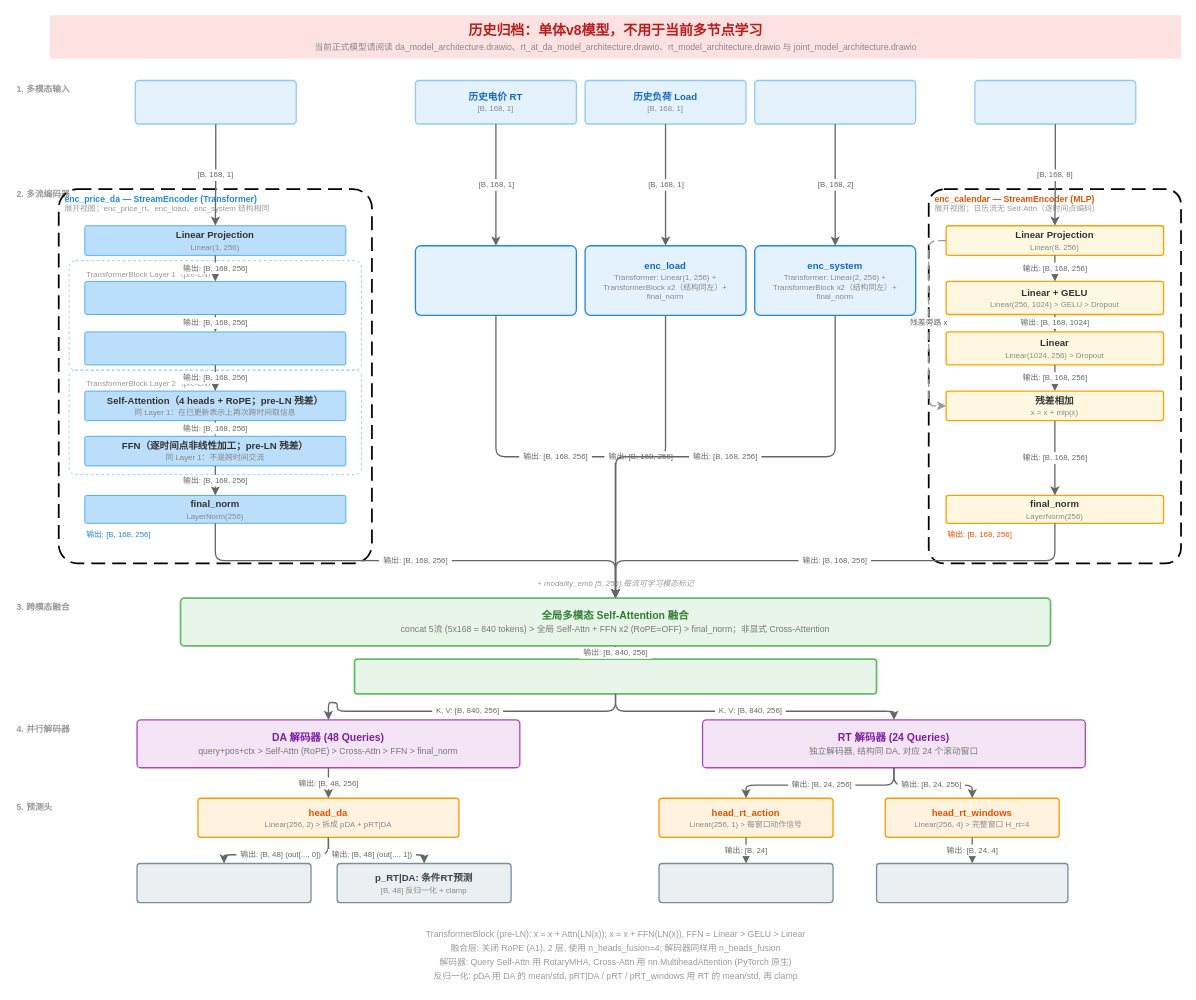
Image size: 1196x1000. Some labels were removed from this diagram. The centre of each missing label's shape, as x and y in pixels:
"enc_price_rt Transformer: Linear(1, 256) + TransformerBlock x2（结构同左）+ final_norm" goes at [495,280].
"FFN（逐时间点非线性加工；pre-LN 残差） 256 → 1024 → GELU → 256；x = x + FFN(LN(x))" goes at [215,348].
"p_DA: 日前电价预测 [B, 48] 反归一化 + clamp" goes at [223,882].
"p_RT: RT动作信号 [B, 24] 反归一化 + clamp" goes at [745,882].
"p_RT_windows: RT窗口 [B, 24, 4] 反归一化 + clamp" goes at [971,882].
"Self-Attention（4 heads + RoPE；pre-LN 残差） 跨时间取信息：x = x + RotaryMHA(LN(x))" goes at [215,298].
"Shared Memory h_i 融合后的共享表示, K/V 供 Decoder 查询" goes at [615,676].
"历史电价 DA [B, 168, 1]" goes at [215,101].
"日历 Calendar [B, 168, 8] 本地 hour/dow/month sin/cos + weekend/holiday" goes at [1055,101].
"系统变量 System [B, 168, 2] 风电+光伏实际出力" goes at [835,101].
